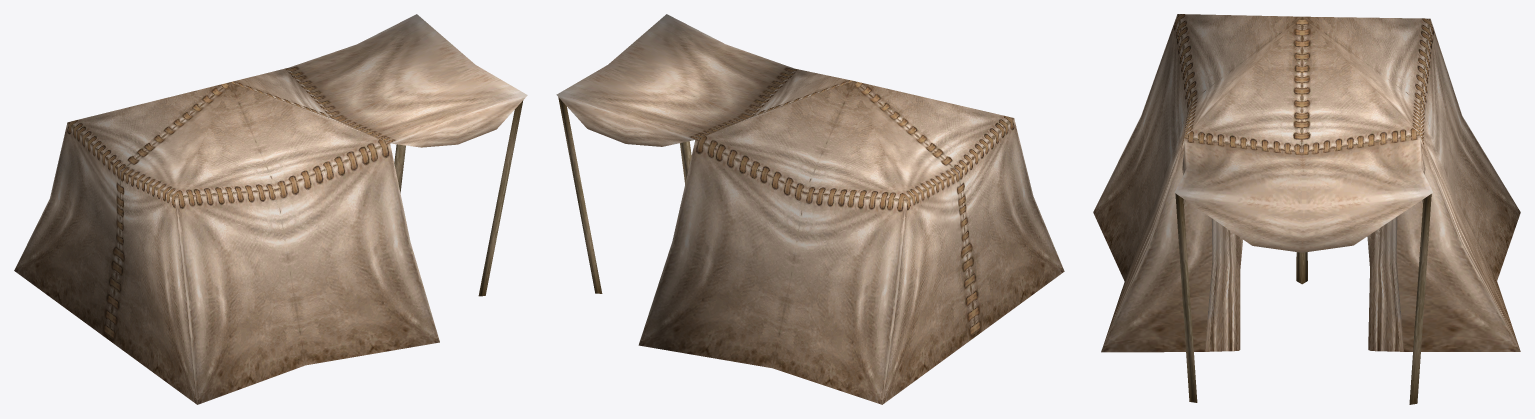
The model's file is excavationtent01.obj.
The picture shows the model from 3 angles, left to right: view 1: azimuth 30°, elevation 25°; view 2: azimuth 150°, elevation 25°; view 3: azimuth 270°, elevation 25°; orthographic projection. The views are drawn at different scales.
Parts seen in each view (by area): view 1: Geoset1, Geoset0; view 2: Geoset1, Geoset0; view 3: Geoset1, Geoset0.
Boxes of the visible parts, bbox=[...] form: Geoset1: bbox=[14, 14, 527, 404]; Geoset0: bbox=[394, 100, 523, 296]; Geoset1: bbox=[556, 14, 1064, 404]; Geoset0: bbox=[558, 97, 691, 293]; Geoset1: bbox=[1093, 14, 1520, 352]; Geoset0: bbox=[1175, 193, 1431, 404].
Size of the model in its own units: 7.54 by 4.47 by 6.49.
2 materials, 2 textured.
